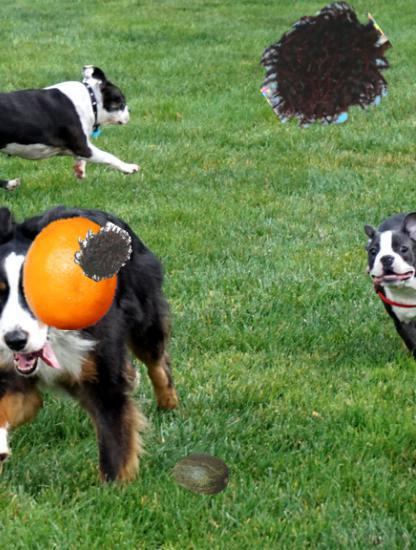Lemon: (12, 214, 129, 331)
Melon: (174, 448, 230, 504)
Rambutan: (261, 4, 395, 138), (73, 222, 132, 281)
